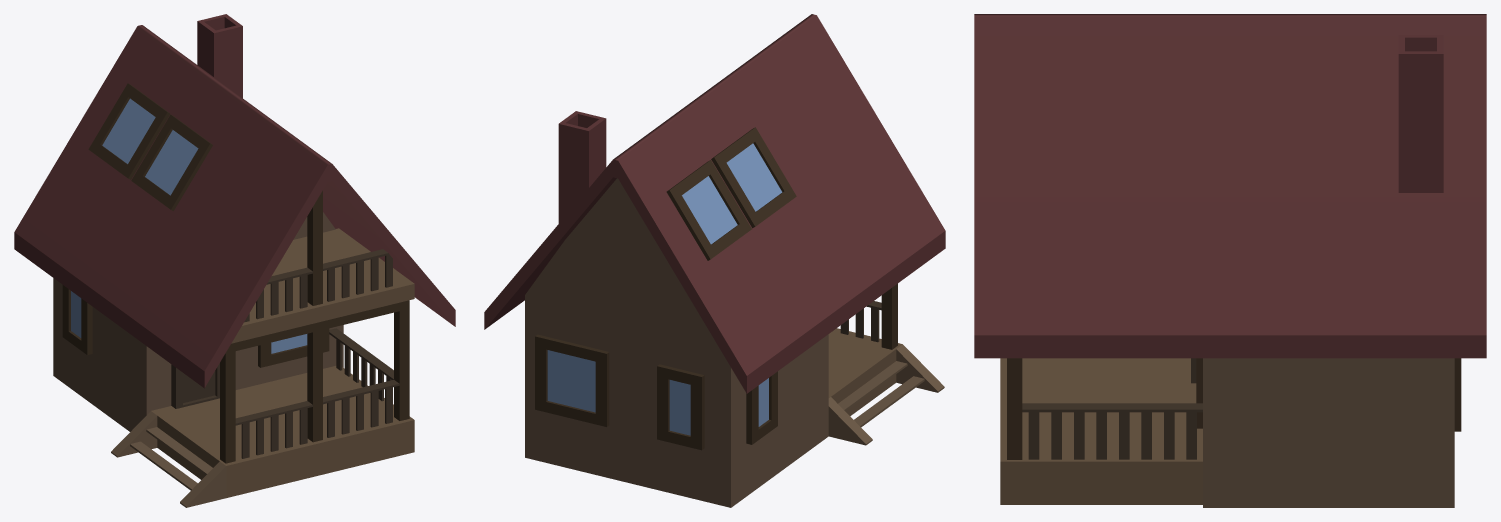
The model's file is Cottage.fbx.
The picture shows the model from 3 angles, left to right: view 1: azimuth 30°, elevation 25°; view 2: azimuth 150°, elevation 25°; view 3: azimuth 270°, elevation 25°; orthographic projection. The views are drawn at different scales.
Visible parts, largest first — view 1: Roof, BottomFloor, HouseBody, Beams, TopFloor, Fence1, Roofwindow1, RoofWindow2, Stairs, Fence3, Chimney, Fence2 (+3 smaller); view 2: Roof, HouseBody, Window1, Roofwindow1, RoofWindow2, Chimney, Stairs, BottomFloor, ThinWindow2, ThinWindow1, Beams, Fence1; view 3: Roof, HouseBody, BottomFloor, Chimney, Fence2, Beams, Window1.
Part boxes in pixels (bbox=[...]): Roof: bbox=[14, 25, 455, 388]; BottomFloor: bbox=[151, 366, 414, 497]; HouseBody: bbox=[53, 212, 343, 431]; Beams: bbox=[220, 190, 409, 463]; TopFloor: bbox=[231, 228, 414, 343]; Fence1: bbox=[235, 380, 399, 458]; Roofwindow1: bbox=[88, 83, 169, 179]; RoofWindow2: bbox=[131, 114, 212, 210]; Stairs: bbox=[111, 411, 226, 507]; Fence3: bbox=[244, 249, 392, 322]; Chimney: bbox=[197, 14, 242, 97]; Fence2: bbox=[329, 328, 393, 401]; Roof: bbox=[484, 14, 945, 393]; HouseBody: bbox=[525, 178, 828, 507]; Window1: bbox=[535, 334, 609, 426]; Roofwindow1: bbox=[666, 160, 751, 260]; RoofWindow2: bbox=[711, 127, 796, 228]; Chimney: bbox=[558, 111, 606, 223]; Stairs: bbox=[828, 344, 944, 445]; BottomFloor: bbox=[828, 328, 902, 416]; ThinWindow2: bbox=[657, 364, 704, 450]; ThinWindow1: bbox=[746, 371, 777, 444]; Beams: bbox=[881, 283, 897, 349]; Fence1: bbox=[840, 301, 881, 342]; Roof: bbox=[974, 14, 1486, 358]; HouseBody: bbox=[1203, 358, 1454, 507]; BottomFloor: bbox=[1000, 358, 1202, 504]; Chimney: bbox=[1398, 35, 1443, 192]; Fence2: bbox=[1022, 403, 1202, 459]; Beams: bbox=[1007, 358, 1022, 459]; Window1: bbox=[1454, 358, 1461, 431].
Size of the model in its own units: 8.97 by 10.66 by 11.36.
